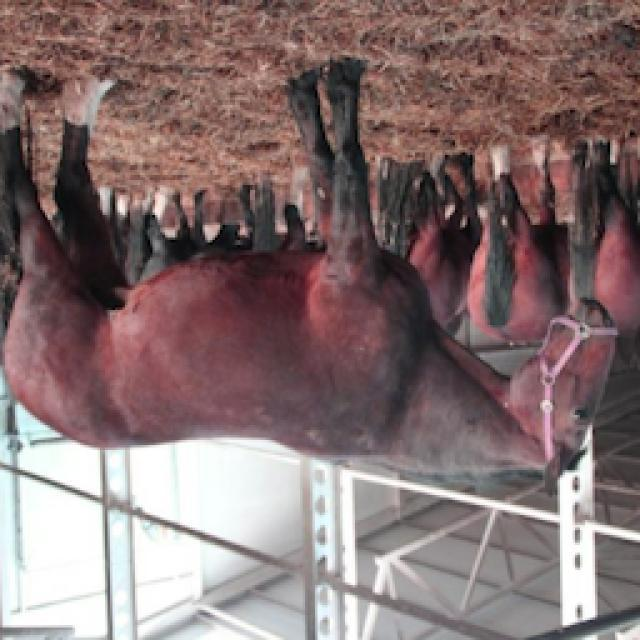Horse: (2, 55, 640, 495)
